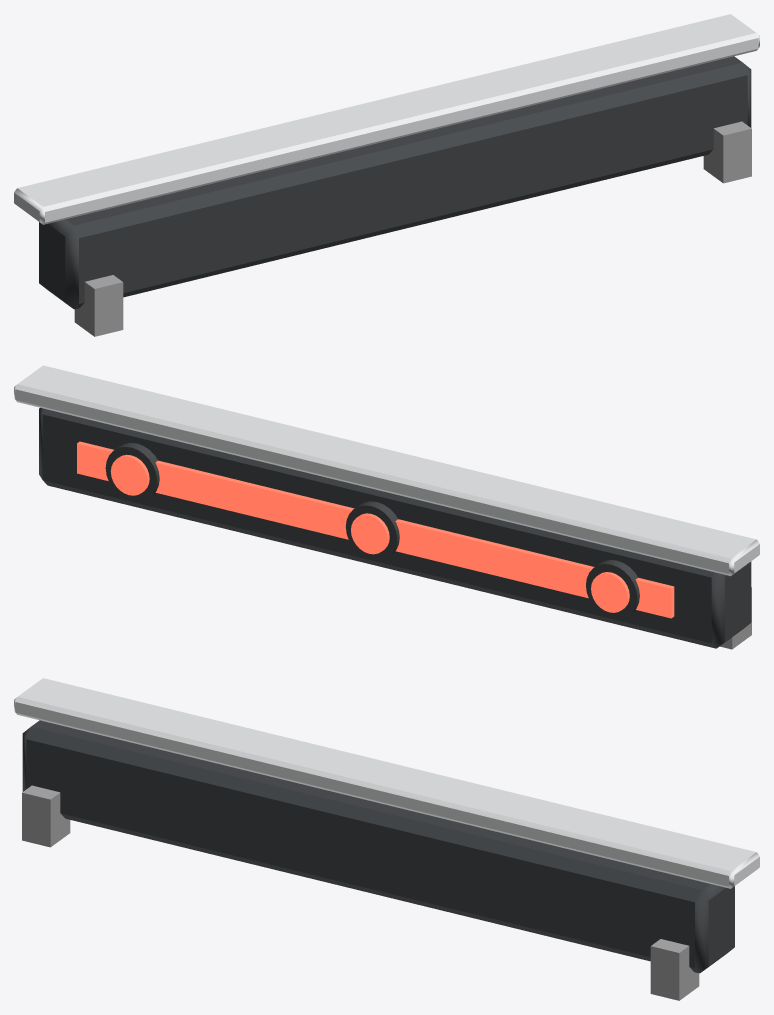
File: plough_eye.glb
3 renders of one model, top to bottom at view 1: azimuth 30°, elevation 25°; view 2: azimuth 150°, elevation 25°; view 3: azimuth 330°, elevation 25°, orthographic.
Visible parts, largest first — view 1: plough_eye; view 2: plough_eye; view 3: plough_eye.
Boxes of the visible parts, bbox=[...] form: plough_eye: bbox=[14, 14, 759, 336]; plough_eye: bbox=[14, 365, 759, 649]; plough_eye: bbox=[14, 678, 759, 1000].
Bounding box in the file's own units: 1.26 × 0.2 × 0.164.
